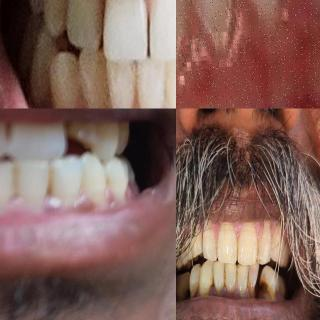calculus: (244, 269, 253, 298), (207, 267, 217, 291), (222, 271, 230, 295), (234, 269, 240, 286)
cavities: (258, 280, 272, 298)
maligned: (8, 116, 72, 158), (74, 36, 106, 108), (48, 47, 80, 109), (64, 112, 98, 152)
